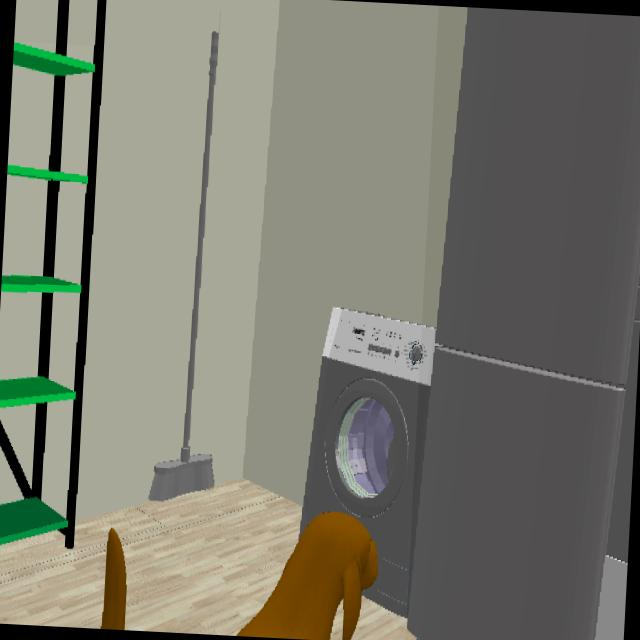fridge: (406, 7, 640, 640)
shelf: (0, 42, 99, 550)
